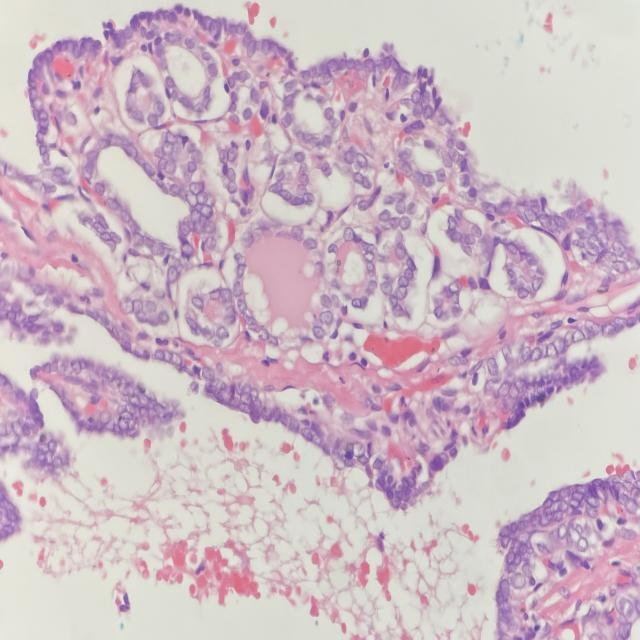TC: (351, 427, 369, 477), (578, 235, 603, 266), (318, 99, 343, 127), (482, 349, 503, 382), (352, 139, 373, 172), (519, 197, 540, 230), (571, 319, 589, 356), (391, 191, 413, 221), (162, 260, 182, 292), (200, 58, 224, 84), (513, 339, 533, 370), (186, 285, 208, 312), (223, 176, 245, 203), (307, 323, 329, 349), (214, 321, 232, 351), (95, 404, 117, 428), (377, 276, 395, 305), (424, 163, 439, 197), (289, 216, 307, 244), (115, 292, 134, 318), (159, 156, 183, 174), (144, 111, 162, 134), (461, 228, 477, 252), (181, 189, 199, 210), (339, 223, 357, 243)
